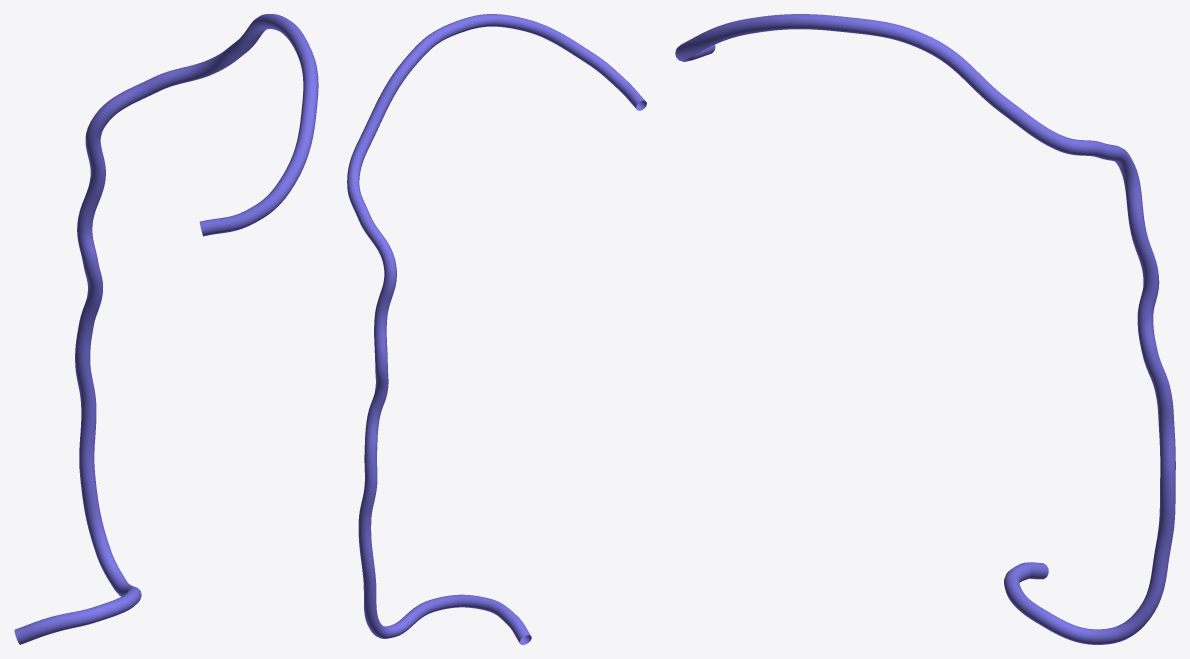
Rendered from Accessory_hemi-azygos_vein_BezierCurve.382.glb.
The picture shows the model from 3 angles, left to right: view 1: azimuth 30°, elevation 25°; view 2: azimuth 150°, elevation 25°; view 3: azimuth 270°, elevation 25°; orthographic projection. The views are drawn at different scales.
Parts seen in each view (by area): view 1: Accessory_hemi-azygos_vein_BezierCurve.382; view 2: Accessory_hemi-azygos_vein_BezierCurve.382; view 3: Accessory_hemi-azygos_vein_BezierCurve.382.
Part boxes in pixels (x1=…): Accessory_hemi-azygos_vein_BezierCurve.382: x1=14, y1=14, x2=318, y2=644; Accessory_hemi-azygos_vein_BezierCurve.382: x1=347, y1=14, x2=646, y2=644; Accessory_hemi-azygos_vein_BezierCurve.382: x1=675, y1=14, x2=1175, y2=644.
Size of the model in its own units: 0.0459 by 0.1287 by 0.0893.
